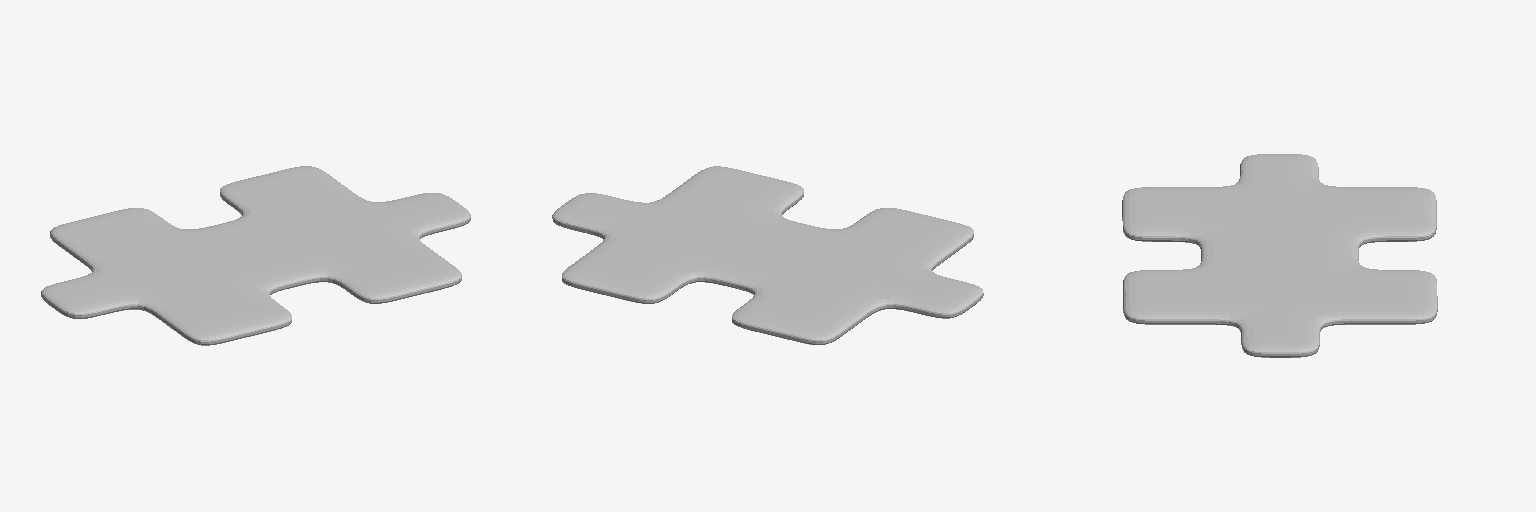
Rendered from GoldenPuzzle-04-MFMF.obj.
The picture shows the model from 3 angles: view 1: azimuth 30°, elevation 25°; view 2: azimuth 150°, elevation 25°; view 3: azimuth 270°, elevation 25°; orthographic projection.
Parts seen in each view (by area): view 1: Puzzle.004; view 2: Puzzle.004; view 3: Puzzle.004.
Boxes of the visible parts, <box> form: Puzzle.004: <box>41,166,470,345</box>; Puzzle.004: <box>552,166,983,344</box>; Puzzle.004: <box>1122,154,1437,357</box>.
Bounding box in the file's own units: 0.375 × 0.0092 × 0.2512.